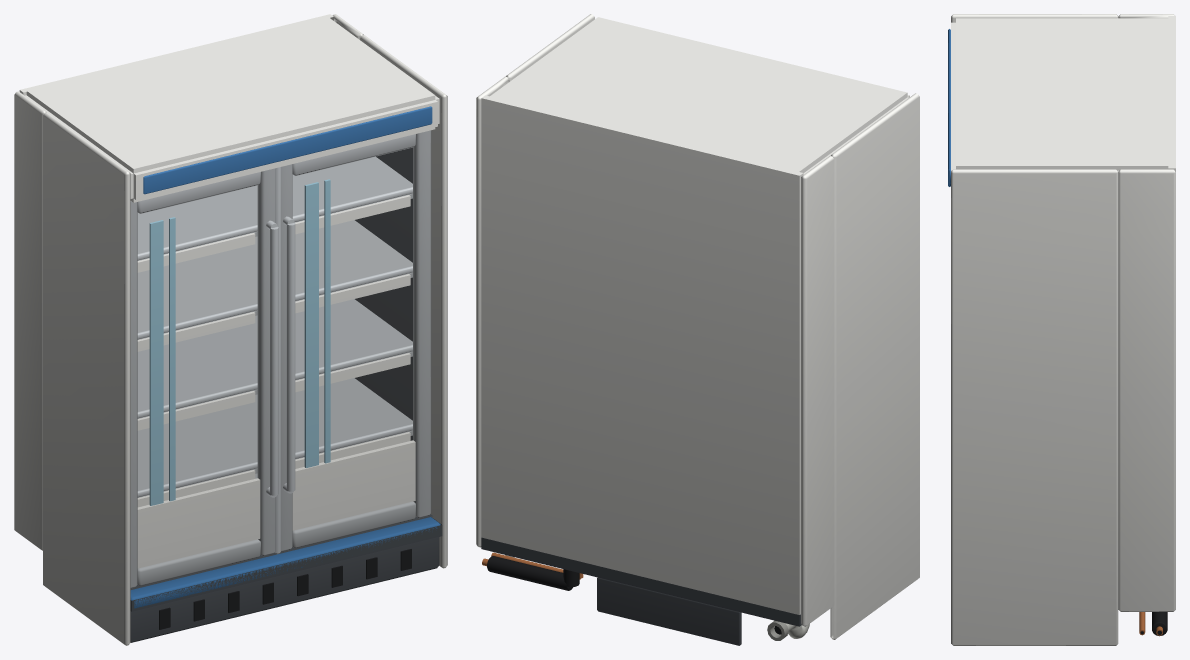
Rendered from FreezerDoors_2Door_15.glb.
The picture shows the model from 3 angles, left to right: view 1: azimuth 30°, elevation 25°; view 2: azimuth 150°, elevation 25°; view 3: azimuth 270°, elevation 25°; orthographic projection. The views are drawn at different scales.
Parts seen in each view (by area): view 1: SM_FreezerDoors_2Door_15; view 2: SM_FreezerDoors_2Door_15; view 3: SM_FreezerDoors_2Door_15.
Part boxes in pixels (x1,y1,x2,y2): SM_FreezerDoors_2Door_15: (14,14,447,645); SM_FreezerDoors_2Door_15: (476,14,919,645); SM_FreezerDoors_2Door_15: (948,14,1175,645).
Size of the model in its own units: 1.5 by 2.1 by 0.912.
1 material, 1 textured.
